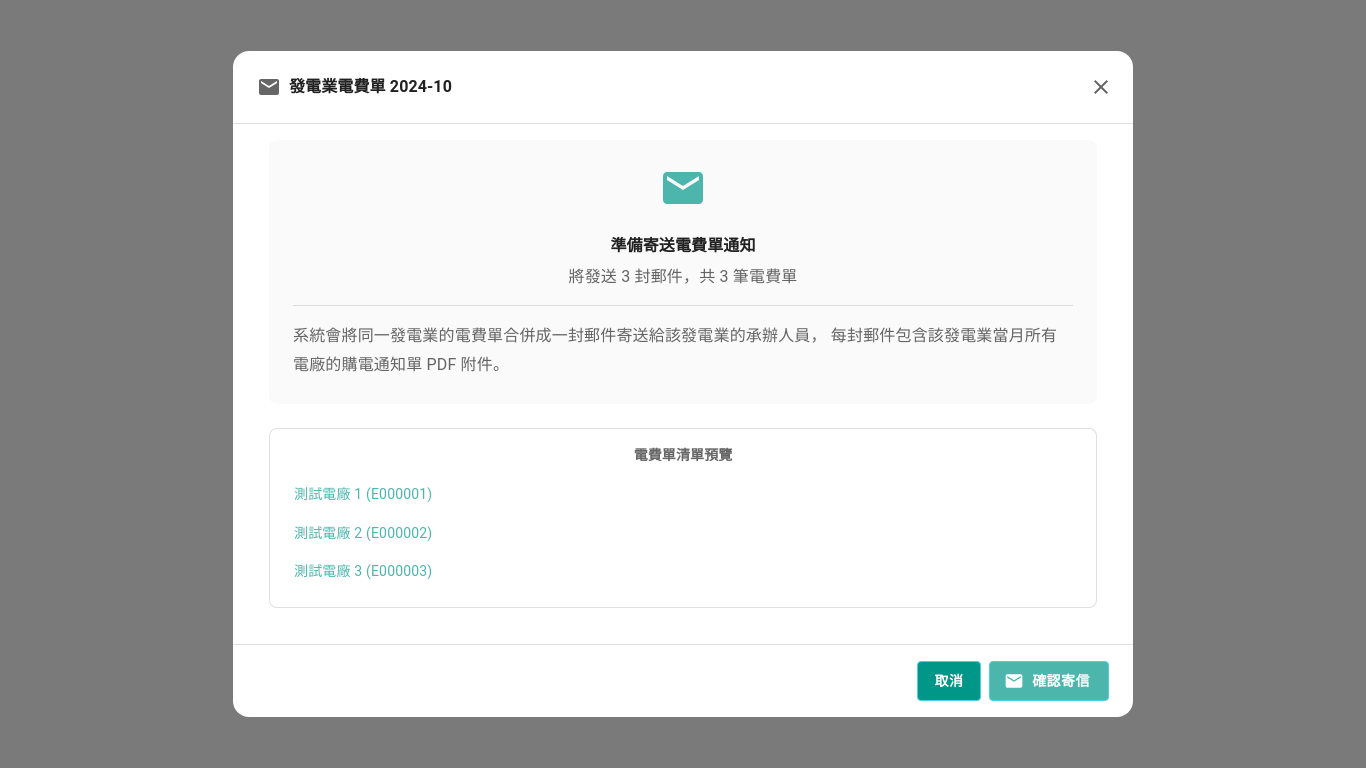
Test: IndustryBillEmailModal (Integration) › Error Handling › should display error message when mutation fails
Expected: the heading "準備寄送電費單通知" is shown, [610,236,756,255]
What coordinates should you click on to do the following:
click the button "確認寄信"
I would click on:
 (1049, 681)
Its box is [989,661,1109,701].
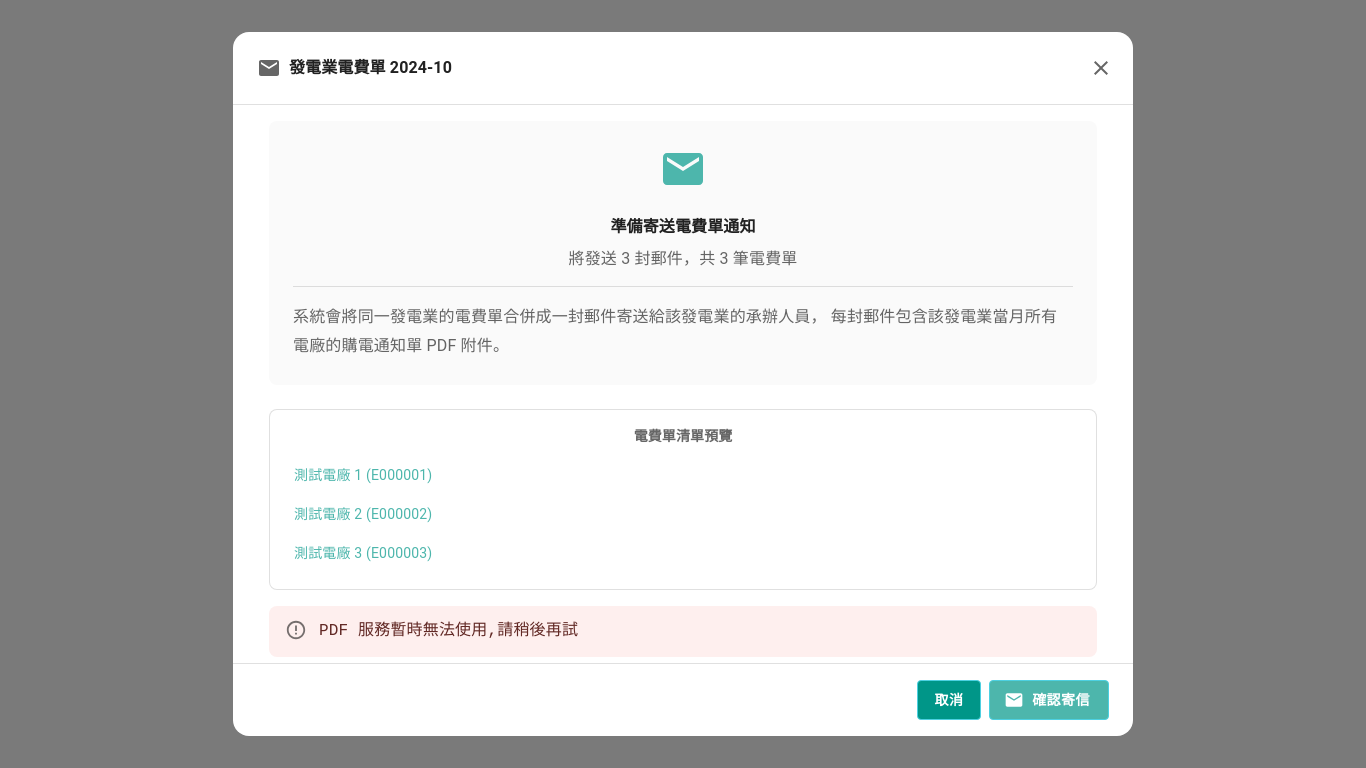
Expected: the text "PDF 服務暫時無法使用,請稍後再試" is shown, [319,622,578,640]
